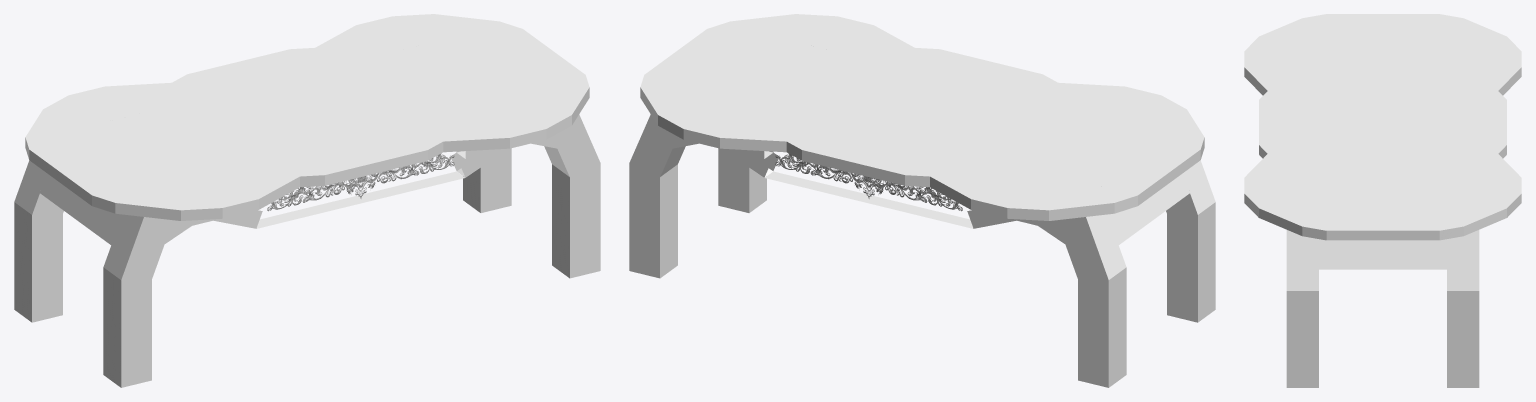
File: kitchen_table.obj
The picture shows the model from 3 angles, left to right: view 1: azimuth 30°, elevation 25°; view 2: azimuth 150°, elevation 25°; view 3: azimuth 270°, elevation 25°; orthographic projection. The views are drawn at different scales.
Visible parts, largest first — view 1: cube, cube.032, cube.034, cube.036, cube.019, cube.000, cube.004, cube.013, cube.005, cube.001, cube.045, cube.037 (+25 smaller); view 2: cube, cube.032, cube.034, cube.037, cube.016, cube.001, cube.004, cube.005, cube.033, cube.000, cube.057, cube.036 (+25 smaller); view 3: cube, cube.014, cube.005, cube.036, cube.037, cube.004, cube.000, cube.001, cube.038, cube.039, cube.003, cube.051 (+22 smaller).
Boxes of the visible parts, left/top/right/bottom form: cube: left=72, top=35, right=542, bottom=189; cube.032: left=103, top=267, right=151, bottom=387; cube.034: left=14, top=202, right=62, bottom=322; cube.036: left=552, top=163, right=600, bottom=278; cube.019: left=256, top=153, right=464, bottom=228; cube.000: left=296, top=129, right=427, bottom=185; cube.004: left=29, top=137, right=142, bottom=205; cube.013: left=103, top=214, right=172, bottom=285; cube.005: left=472, top=29, right=585, bottom=87; cube.001: left=187, top=49, right=317, bottom=94; cube.045: left=434, top=109, right=509, bottom=152; cube.037: left=463, top=148, right=511, bottom=212; cube: left=687, top=35, right=1157, bottom=189; cube.032: left=1167, top=202, right=1215, bottom=322; cube.034: left=1078, top=267, right=1126, bottom=387; cube.037: left=629, top=163, right=677, bottom=278; cube.016: left=765, top=153, right=973, bottom=228; cube.001: left=802, top=129, right=932, bottom=185; cube.004: left=1087, top=137, right=1200, bottom=205; cube.005: left=644, top=29, right=757, bottom=87; cube.033: left=1057, top=214, right=1126, bottom=285; cube.000: left=912, top=49, right=1042, bottom=94; cube.057: left=720, top=109, right=795, bottom=152; cube.036: left=718, top=148, right=766, bottom=212; cube: left=1310, top=36, right=1455, bottom=208; cube.014: left=1319, top=239, right=1446, bottom=269; cube.005: left=1326, top=208, right=1439, bottom=240; cube.036: left=1286, top=291, right=1318, bottom=387; cube.037: left=1447, top=291, right=1479, bottom=387; cube.004: left=1326, top=14, right=1439, bottom=36; cube.000: left=1259, top=99, right=1310, bottom=144; cube.001: left=1455, top=99, right=1506, bottom=144; cube.038: left=1447, top=230, right=1479, bottom=290; cube.039: left=1286, top=230, right=1318, bottom=290; cube.003: left=1244, top=57, right=1323, bottom=95; cube.051: left=1442, top=57, right=1521, bottom=95.
Size of the model in its own units: 3 by 1.03 by 1.62.
